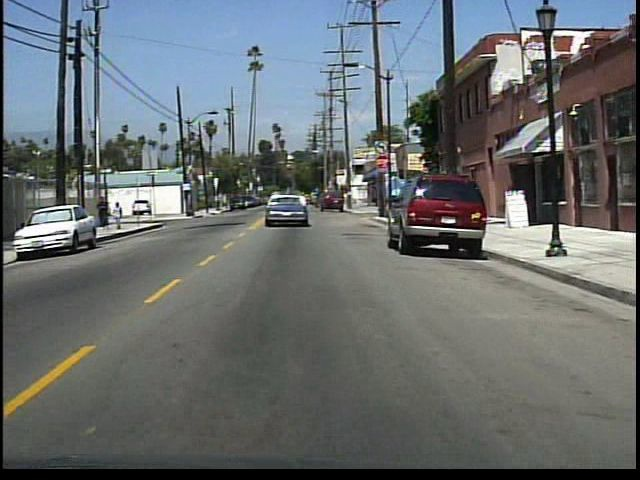person: (98, 196, 114, 231), (114, 199, 128, 231)
